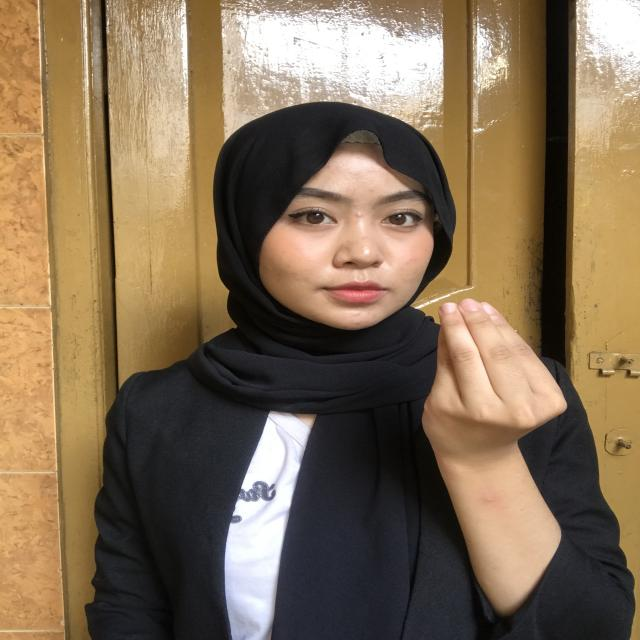kapan: (419, 300, 576, 454)
